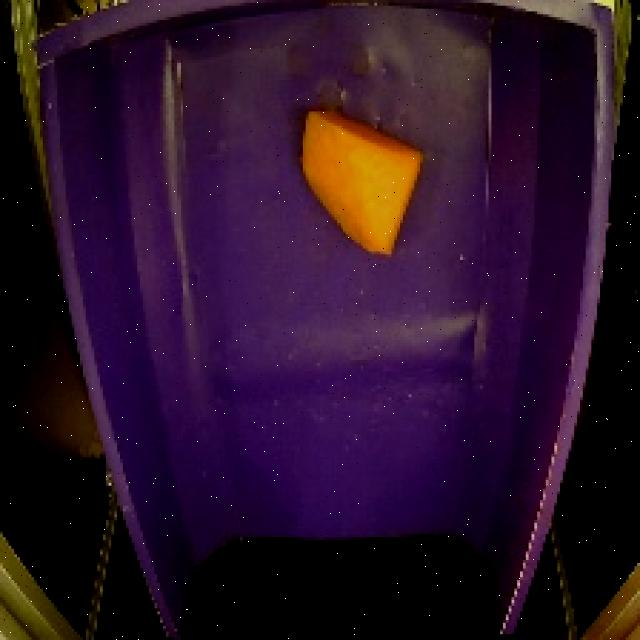carrots: (291, 100, 433, 267)
